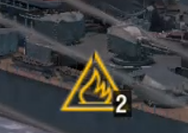2fire: (54, 76, 133, 118)
